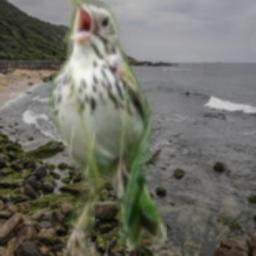Sparrow: (49, 0, 167, 256)
